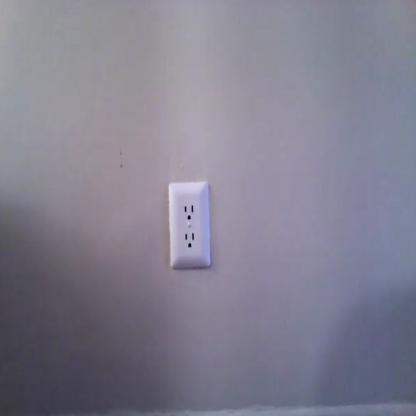OUTLET: (168, 181, 210, 266)
